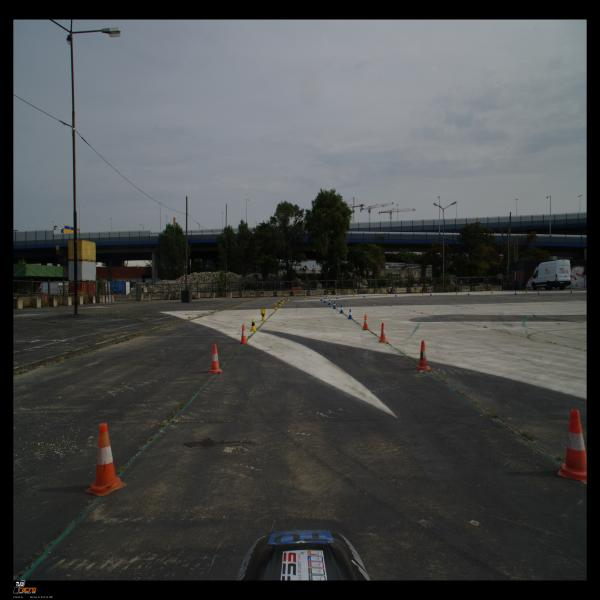blue_cone: (348, 309, 353, 319), (339, 305, 344, 313), (333, 301, 336, 308), (328, 299, 331, 305), (320, 296, 323, 301), (324, 297, 326, 303), (514, 291, 517, 295), (336, 295, 338, 299), (363, 294, 365, 298), (395, 292, 397, 296), (430, 292, 432, 296), (468, 292, 470, 296)
orange_cone: (84, 423, 127, 496), (557, 409, 586, 483), (416, 340, 431, 371), (208, 343, 223, 374), (238, 324, 250, 344), (378, 322, 387, 343), (362, 315, 369, 330), (570, 288, 573, 293), (538, 290, 540, 295)
yellow_cone: (250, 318, 257, 332), (261, 311, 266, 321), (274, 303, 278, 310), (261, 309, 265, 315), (278, 300, 281, 307), (280, 299, 284, 304), (525, 289, 528, 294), (287, 296, 289, 301), (422, 291, 424, 295), (386, 292, 388, 296), (353, 293, 355, 297), (326, 294, 328, 298), (304, 295, 306, 299), (282, 298, 284, 302), (456, 291, 458, 295), (491, 290, 493, 294)
